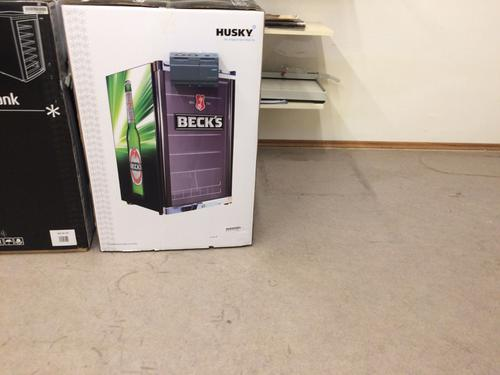iot2000: (169, 52, 220, 90)
